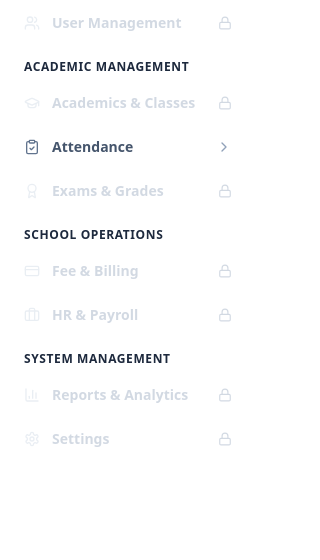
Test case: AdminSidebar RBAC › enables only permitted subItems for granular attendance permissions
The image size is (320, 560).
What coordinates should you click on to do the following:
click the button "Attendance"
I would click on:
 (128, 147)
Its box is [12,127,244,167].
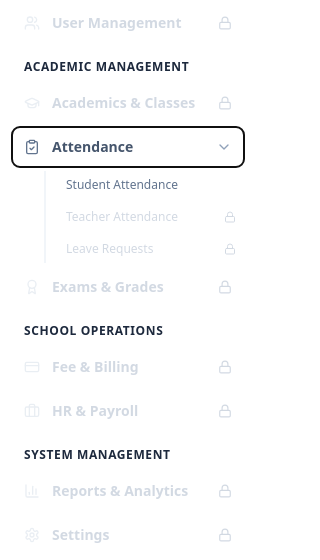
Expected: the button "Student Attendance" is enabled, [58,171,244,199]
Expected: the button "Teacher Attendance" is disabled, [58,203,244,231]
Expected: the button "Leave Requests" is disabled, [58,235,244,263]
